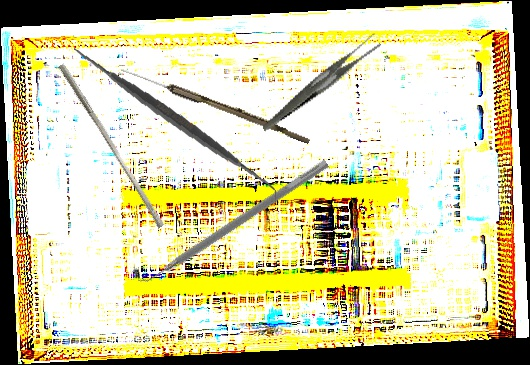Dressing Forceps: (245, 31, 396, 133)
Pusher: (52, 63, 170, 229)
Spatula Surgical: (73, 18, 277, 222), (134, 150, 330, 292)
Surgical Spoon: (119, 65, 312, 145)
